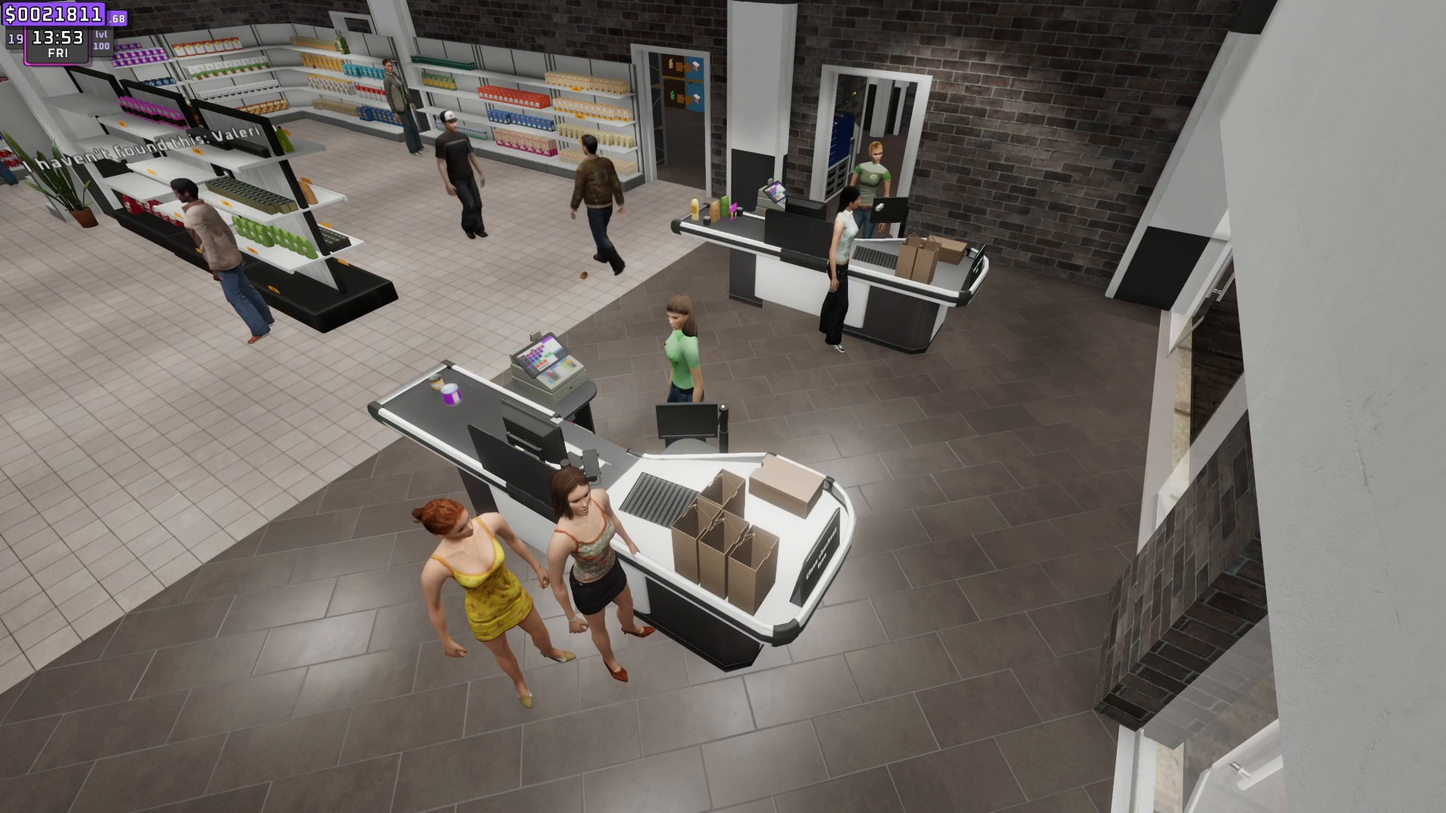Client: (406, 498, 553, 697), (534, 470, 661, 679)
Employee: (815, 186, 855, 356), (658, 288, 715, 401), (852, 136, 889, 239)
